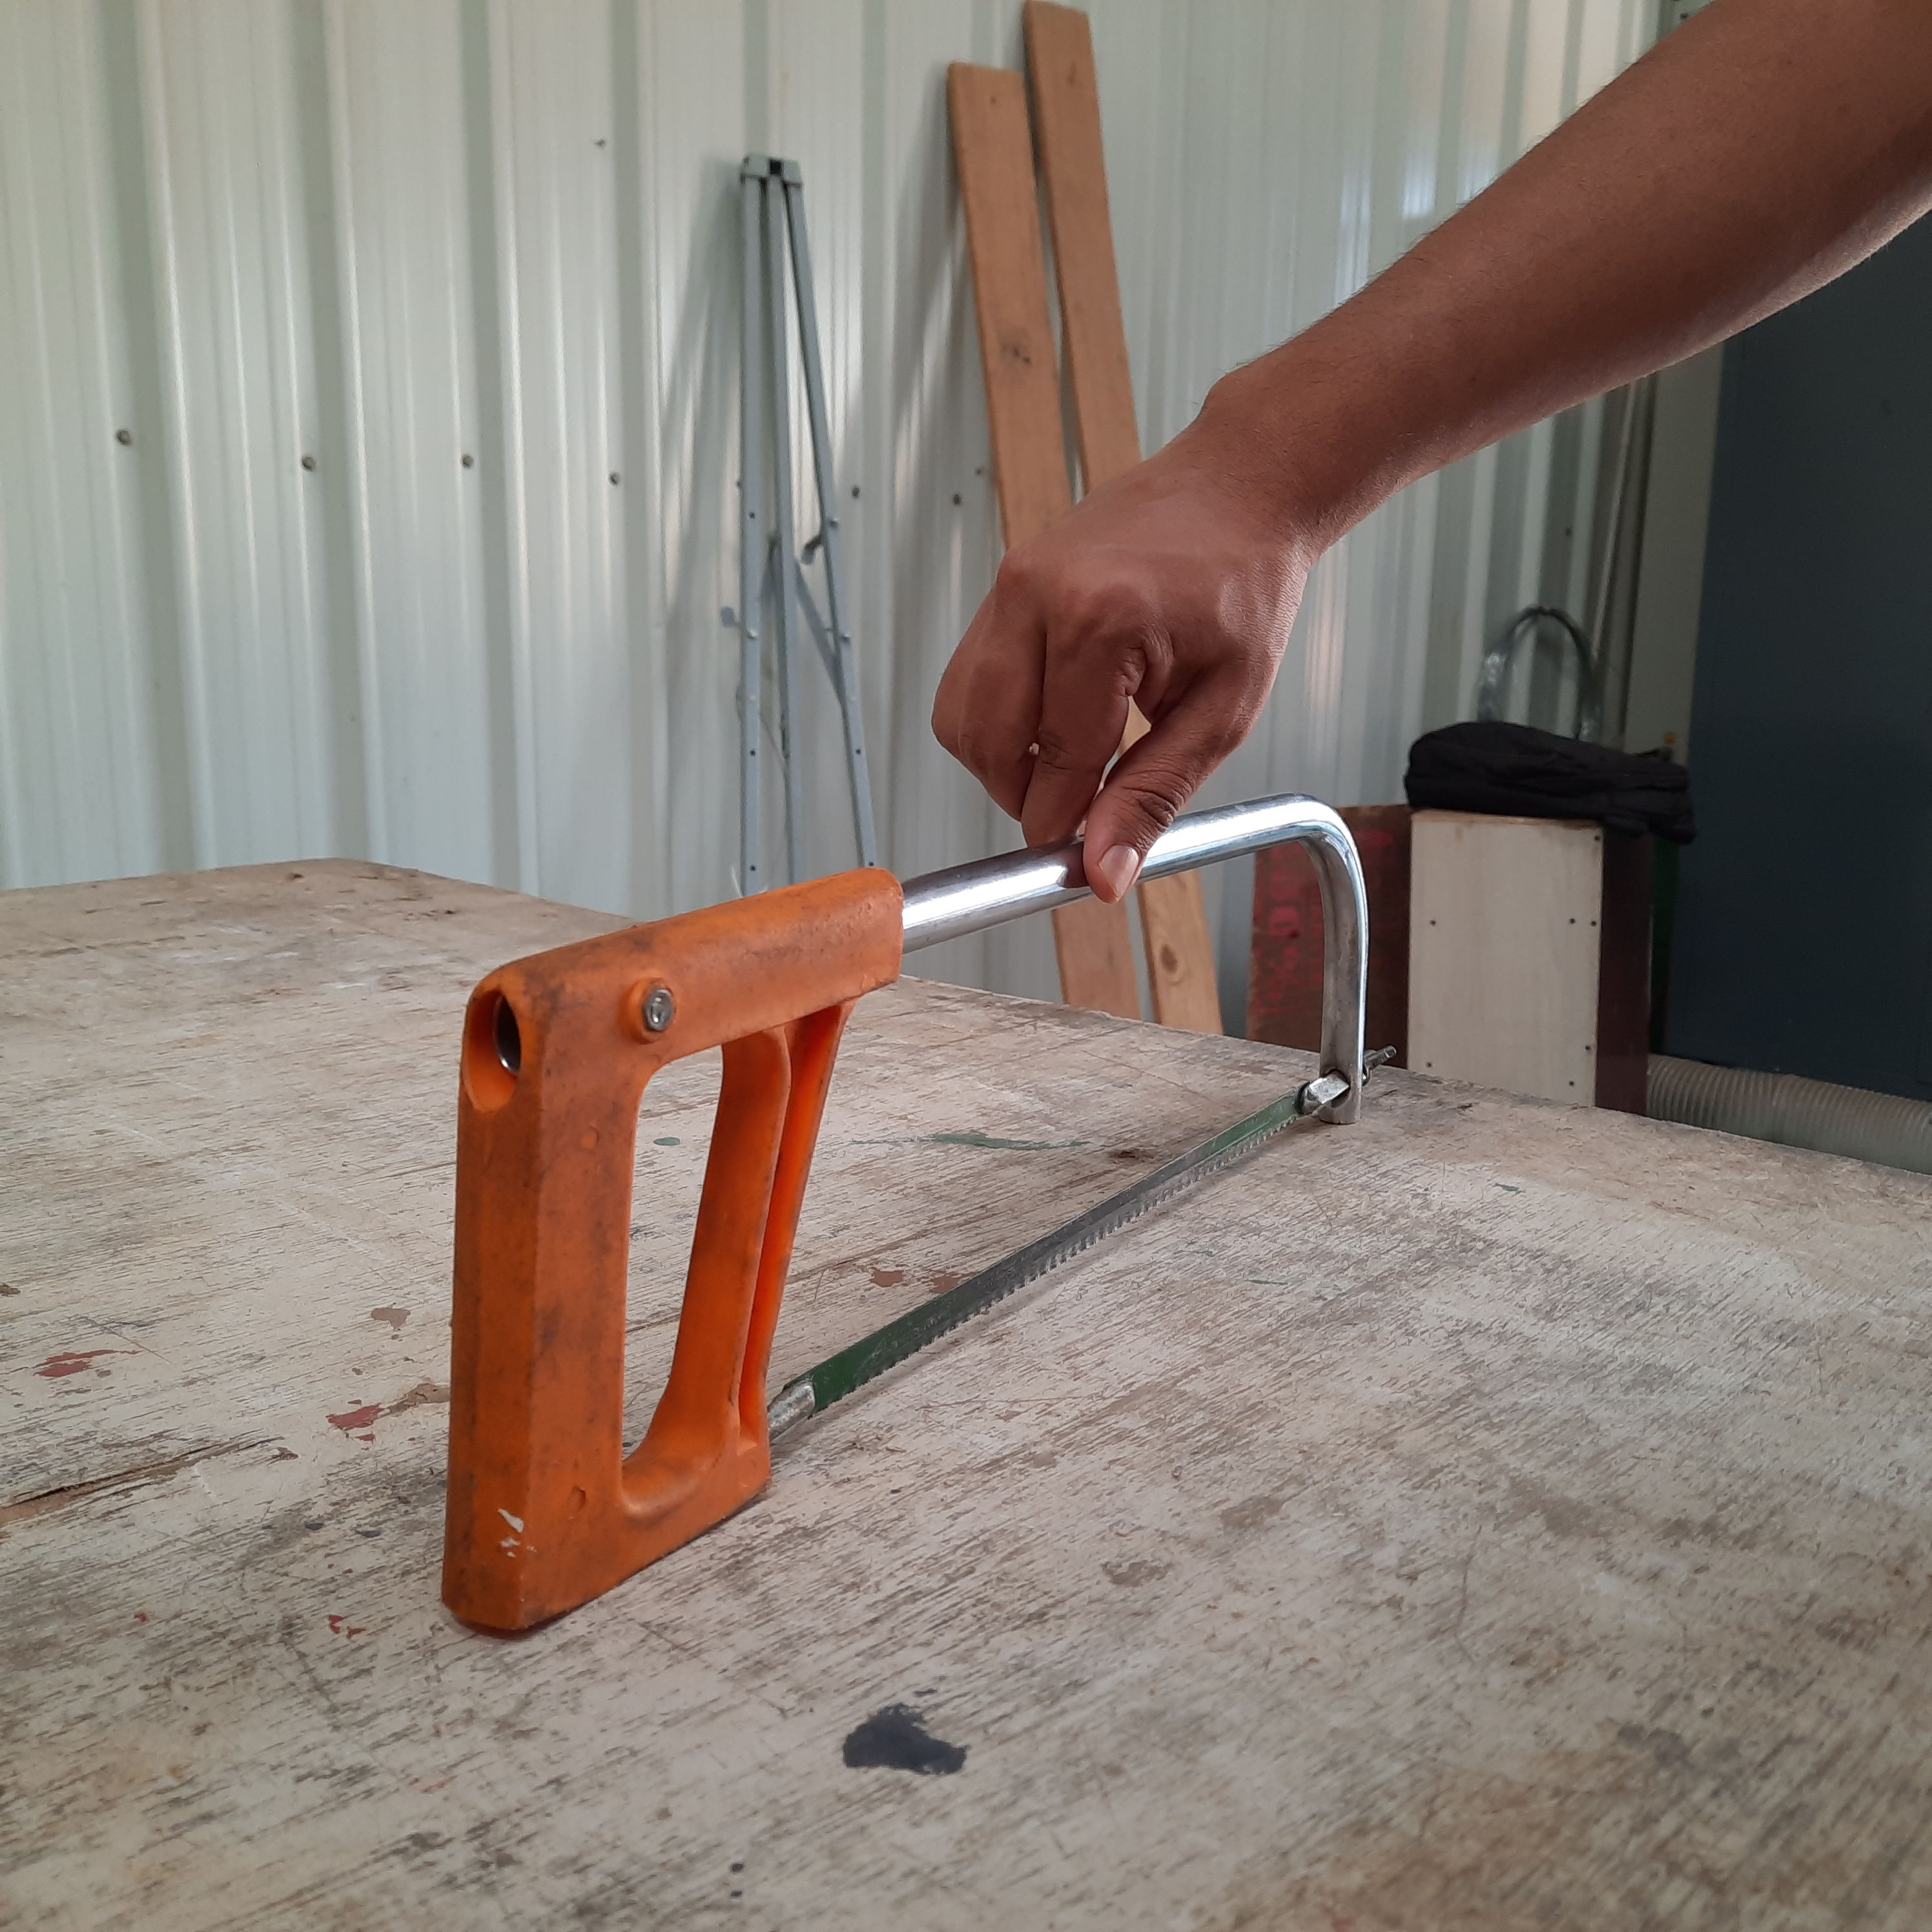Hexaframe: (414, 780, 1421, 1635)
